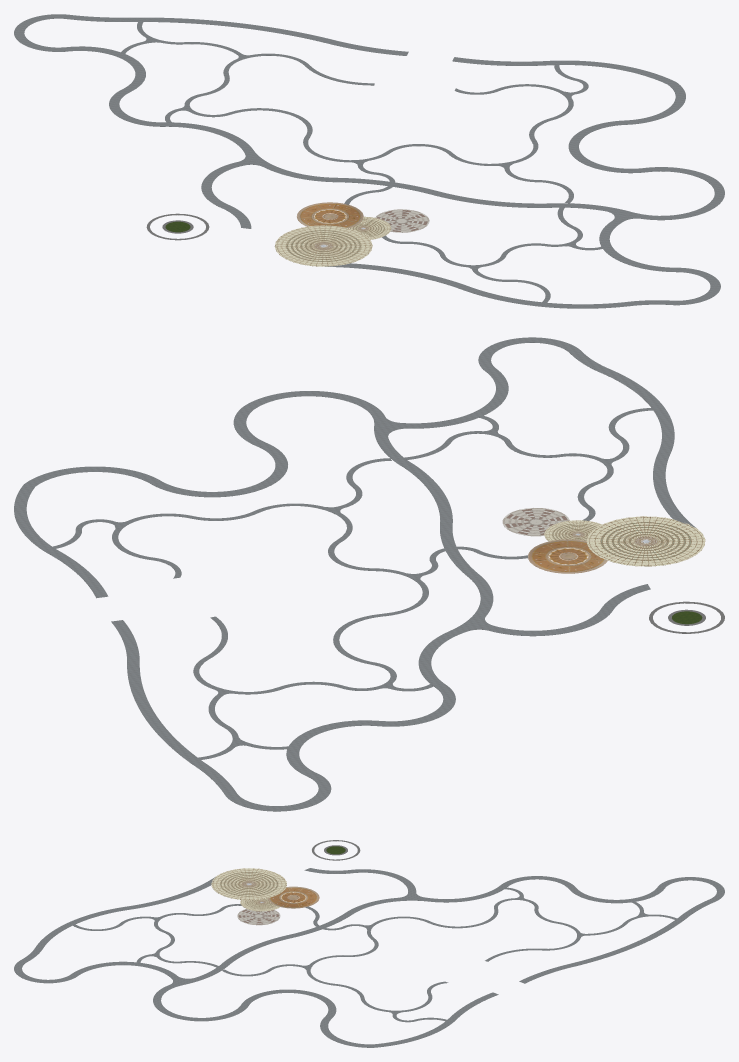
Rendered from gongyuan3.gltf.
3 renders of one model, top to bottom at view 1: azimuth 30°, elevation 25°; view 2: azimuth 150°, elevation 25°; view 3: azimuth 270°, elevation 25°, orthographic. The views are drawn at different scales.
Parts seen in each view (by area): view 1: Obj3d66-602692-6-605, Obj3d66-602692-7-224, Obj3d66-602692-182-819, Obj3d66-602692-180-816, Obj3d66-602692-181-212, Obj3d66-602692-179-448, Obj3d66-602692-174-615; view 2: Obj3d66-602692-6-605, Obj3d66-602692-7-224, Obj3d66-602692-182-819, Obj3d66-602692-180-816, Obj3d66-602692-181-212, Obj3d66-602692-179-448; view 3: Obj3d66-602692-6-605, Obj3d66-602692-7-224, Obj3d66-602692-182-819, Obj3d66-602692-180-816, Obj3d66-602692-181-212, Obj3d66-602692-179-448.
Part boxes in pixels (box(x1,y1,x2,y2)): Obj3d66-602692-6-605: box(14, 14, 724, 308); Obj3d66-602692-7-224: box(121, 22, 602, 302); Obj3d66-602692-182-819: box(274, 225, 372, 266); Obj3d66-602692-180-816: box(296, 202, 363, 228); Obj3d66-602692-181-212: box(375, 209, 429, 232); Obj3d66-602692-179-448: box(349, 216, 391, 239); Obj3d66-602692-174-615: box(146, 213, 209, 240); Obj3d66-602692-6-605: box(14, 337, 695, 811); Obj3d66-602692-7-224: box(53, 408, 652, 759); Obj3d66-602692-182-819: box(587, 516, 705, 566); Obj3d66-602692-180-816: box(528, 539, 607, 573); Obj3d66-602692-181-212: box(502, 508, 569, 536); Obj3d66-602692-179-448: box(544, 520, 601, 541); Obj3d66-602692-6-605: box(14, 868, 724, 1047); Obj3d66-602692-7-224: box(73, 887, 676, 1022); Obj3d66-602692-182-819: box(211, 868, 286, 900); Obj3d66-602692-180-816: box(268, 886, 319, 908); Obj3d66-602692-181-212: box(237, 908, 280, 925); Obj3d66-602692-179-448: box(240, 898, 279, 911).
Size of the model in its own units: 1134 by 0.0936 by 1640.
Materials: 8 (7 with a texture image).
